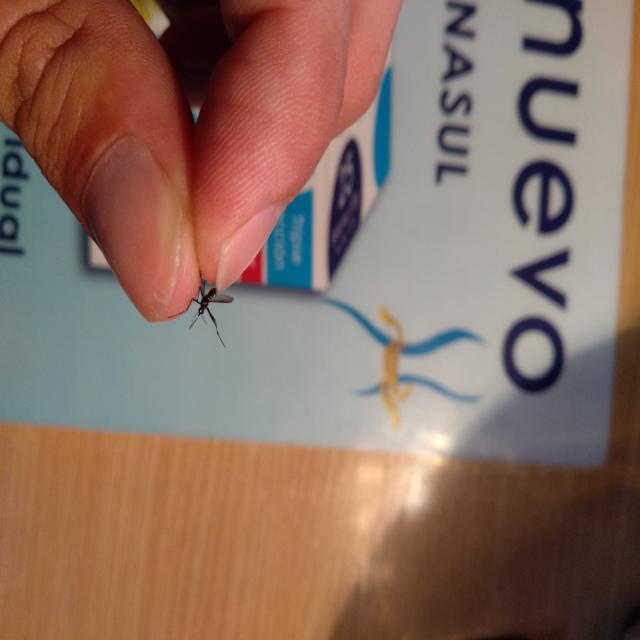albopictus: (166, 248, 245, 350)
